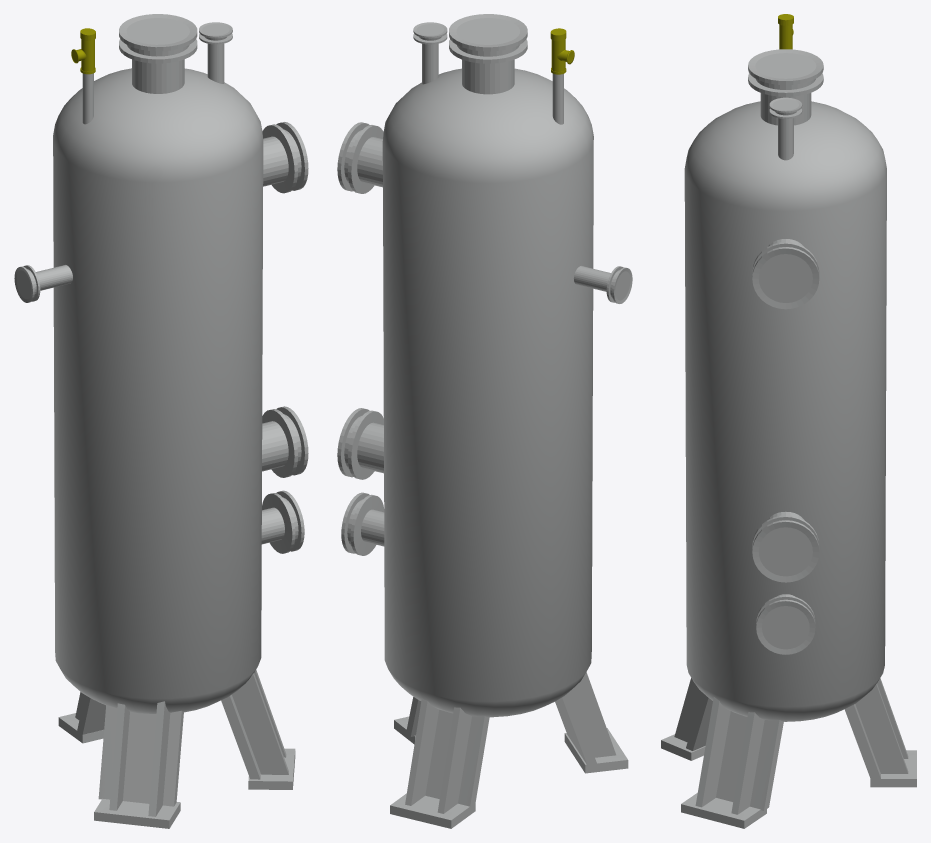
File: ресо.fbx
3 renders of one model, left to right at view 1: azimuth 30°, elevation 25°; view 2: azimuth 150°, elevation 25°; view 3: azimuth 270°, elevation 25°, orthographic. The views are drawn at different scales.
Visible parts, largest first — view 1: Sphere.010, Cube.024, Cylinder.017, Cube.019, Cylinder.020, Cylinder.019, Cylinder.022, Cube.016, Cylinder.023, Cylinder.018, Sphere.012, Cylinder.026; view 2: Sphere.010, Cube.016, Cylinder.017, Cube.024, Cylinder.020, Cylinder.019, Cylinder.022, Cylinder.023, Cylinder.018, Sphere.012, Cube.019, Cylinder.026; view 3: Sphere.010, Cube.019, Cube.016, Cylinder.017, Cylinder.020, Cylinder.019, Cylinder.022, Cube.024, Cylinder.018, Sphere.012.
Part boxes in pixels (x1,y1,x2,y2): Sphere.010: (53, 68, 263, 713); Cube.024: (94, 701, 183, 828); Cylinder.017: (119, 14, 197, 93); Cube.019: (221, 670, 295, 789); Cylinder.020: (262, 406, 308, 477); Cylinder.019: (262, 122, 308, 193); Cylinder.022: (261, 490, 304, 553); Cube.016: (58, 692, 105, 743); Cylinder.023: (14, 265, 72, 302); Cylinder.018: (199, 22, 232, 83); Sphere.012: (71, 28, 95, 74); Cylinder.026: (82, 73, 93, 124); Sphere.010: (382, 68, 593, 717); Cube.016: (390, 698, 489, 828); Cylinder.017: (449, 14, 527, 94); Cube.024: (555, 672, 628, 773); Cylinder.020: (337, 408, 383, 479); Cylinder.019: (337, 122, 383, 193); Cylinder.022: (341, 492, 384, 555); Cylinder.023: (574, 266, 632, 303); Cylinder.018: (413, 22, 447, 84); Sphere.012: (550, 28, 574, 74); Cube.019: (394, 697, 421, 744); Cylinder.026: (552, 73, 563, 124); Sphere.010: (684, 101, 886, 721); Cube.019: (681, 697, 783, 828); Cube.016: (844, 678, 916, 787); Cylinder.017: (748, 49, 823, 125); Cylinder.020: (752, 511, 819, 582); Cylinder.019: (752, 239, 819, 309); Cylinder.022: (756, 594, 815, 654); Cube.024: (661, 678, 712, 760); Cylinder.018: (769, 97, 802, 160); Sphere.012: (778, 14, 793, 49).
Bounding box in the file's own units: 293 × 791 × 253.
